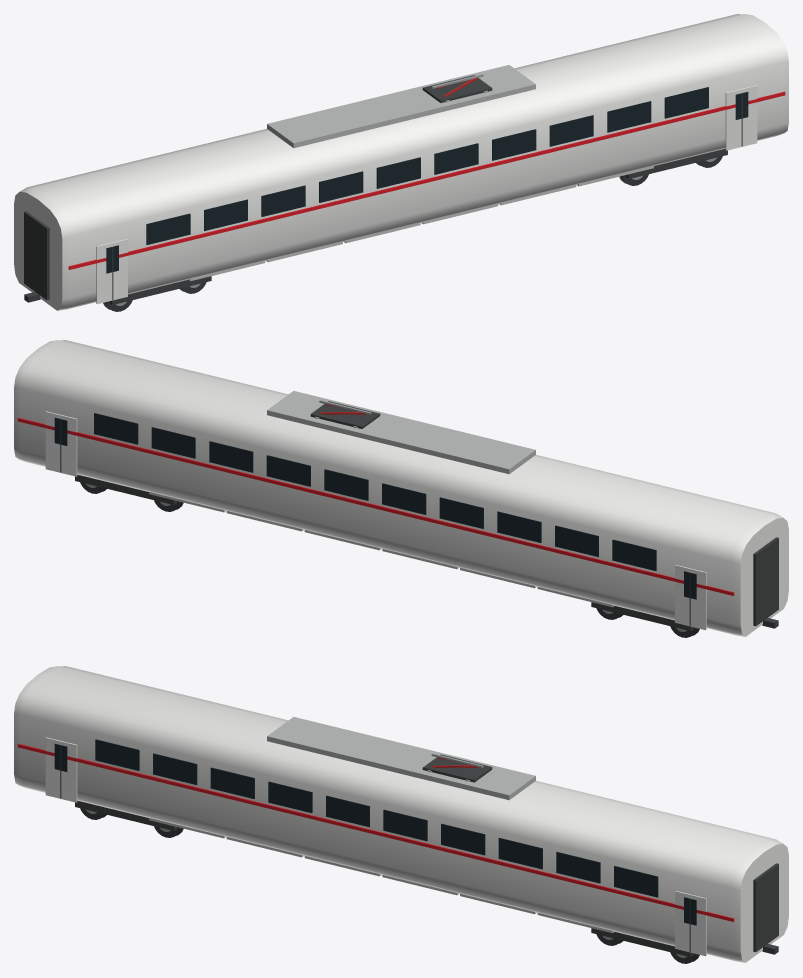
Rendered from ice3-br403-second-transformer-403-6.glb.
3 renders of one model, top to bottom at view 1: azimuth 30°, elevation 25°; view 2: azimuth 150°, elevation 25°; view 3: azimuth 330°, elevation 25°, orthographic.
Parts seen in each view (by area): view 1: ice3_second_transformer_403_6_lofted_shell, second_transformer_403_6_transformer_roof_fairing, second_transformer_403_6_red_belt_-1, second_transformer_403_6_gangway_-1, second_transformer_403_6_1_door_-1, second_transformer_403_6_0_door_-1, second_transformer_403_6_05_window_-1, second_transformer_403_6_02_window_-1, second_transformer_403_6_04_window_-1, second_transformer_403_6_06_window_-1, second_transformer_403_6_08_window_-1, second_transformer_403_6_07_window_-1 (+7 smaller); view 2: ice3_second_transformer_403_6_lofted_shell, second_transformer_403_6_transformer_roof_fairing, second_transformer_403_6_red_belt_1, second_transformer_403_6_gangway_-1, second_transformer_403_6_1_door_1, second_transformer_403_6_0_door_1, second_transformer_403_6_bogie_1, second_transformer_403_6_bogie_0, second_transformer_403_6_05_window_1, second_transformer_403_6_02_window_1, second_transformer_403_6_04_window_1, second_transformer_403_6_06_window_1 (+7 smaller); view 3: ice3_second_transformer_403_6_lofted_shell, second_transformer_403_6_transformer_roof_fairing, second_transformer_403_6_red_belt_-1, second_transformer_403_6_gangway_1, second_transformer_403_6_0_door_-1, second_transformer_403_6_1_door_-1, second_transformer_403_6_00_window_-1, second_transformer_403_6_05_window_-1, second_transformer_403_6_07_window_-1, second_transformer_403_6_08_window_-1, second_transformer_403_6_01_window_-1, second_transformer_403_6_03_window_-1 (+7 smaller).
Boxes of the visible parts, x1,y1,x2,y2 form: ice3_second_transformer_403_6_lofted_shell: [14, 14, 788, 310]; second_transformer_403_6_transformer_roof_fairing: [267, 65, 535, 148]; second_transformer_403_6_red_belt_-1: [68, 91, 785, 269]; second_transformer_403_6_gangway_-1: [24, 211, 49, 300]; second_transformer_403_6_1_door_-1: [725, 85, 757, 150]; second_transformer_403_6_0_door_-1: [96, 239, 127, 304]; second_transformer_403_6_05_window_-1: [434, 143, 478, 174]; second_transformer_403_6_02_window_-1: [261, 185, 305, 216]; second_transformer_403_6_04_window_-1: [376, 157, 420, 188]; second_transformer_403_6_06_window_-1: [492, 129, 536, 160]; second_transformer_403_6_08_window_-1: [607, 101, 651, 132]; second_transformer_403_6_07_window_-1: [549, 115, 593, 146]; ice3_second_transformer_403_6_lofted_shell: [14, 340, 788, 636]; second_transformer_403_6_transformer_roof_fairing: [267, 391, 535, 474]; second_transformer_403_6_red_belt_1: [17, 417, 734, 595]; second_transformer_403_6_gangway_-1: [753, 537, 778, 626]; second_transformer_403_6_1_door_1: [45, 411, 77, 476]; second_transformer_403_6_0_door_1: [675, 565, 706, 630]; second_transformer_403_6_bogie_1: [75, 474, 183, 511]; second_transformer_403_6_bogie_0: [591, 602, 699, 637]; second_transformer_403_6_05_window_1: [324, 469, 368, 500]; second_transformer_403_6_02_window_1: [497, 511, 541, 542]; second_transformer_403_6_04_window_1: [382, 483, 426, 514]; second_transformer_403_6_06_window_1: [266, 455, 310, 486]; ice3_second_transformer_403_6_lofted_shell: [14, 666, 788, 962]; second_transformer_403_6_transformer_roof_fairing: [267, 717, 535, 800]; second_transformer_403_6_red_belt_-1: [17, 743, 734, 921]; second_transformer_403_6_gangway_1: [753, 863, 778, 952]; second_transformer_403_6_0_door_-1: [45, 737, 77, 802]; second_transformer_403_6_1_door_-1: [675, 891, 706, 956]; second_transformer_403_6_00_window_-1: [95, 739, 139, 770]; second_transformer_403_6_05_window_-1: [383, 809, 427, 841]; second_transformer_403_6_07_window_-1: [498, 837, 542, 869]; second_transformer_403_6_08_window_-1: [556, 852, 600, 883]; second_transformer_403_6_01_window_-1: [153, 753, 197, 784]; second_transformer_403_6_03_window_-1: [268, 781, 312, 812].
Size of the model in its own units: 25.4 by 4.4 by 3.05.
